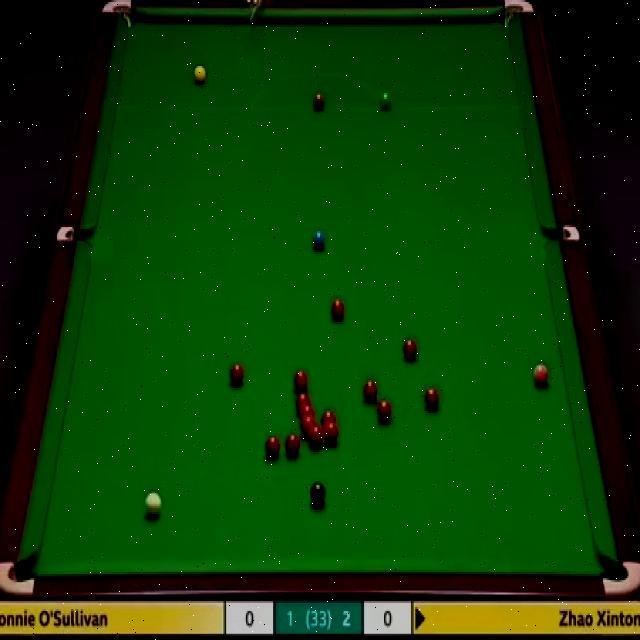black-ball: (310, 480, 326, 510)
blue-ball: (311, 230, 327, 252)
brown-ball: (312, 90, 325, 112)
green-ball: (379, 91, 392, 111)
pink-ball: (533, 361, 549, 388)
red-ball: (284, 431, 302, 460), (376, 398, 394, 427), (228, 361, 246, 389), (331, 297, 348, 324), (292, 368, 309, 394), (264, 433, 280, 459), (403, 336, 418, 362), (323, 422, 339, 446), (423, 385, 438, 410), (362, 378, 377, 402), (309, 424, 323, 448), (296, 391, 310, 408), (301, 416, 315, 433), (300, 405, 315, 418), (322, 412, 336, 425)
white-ball: (145, 491, 161, 516)
yellow-ball: (194, 66, 208, 86)
